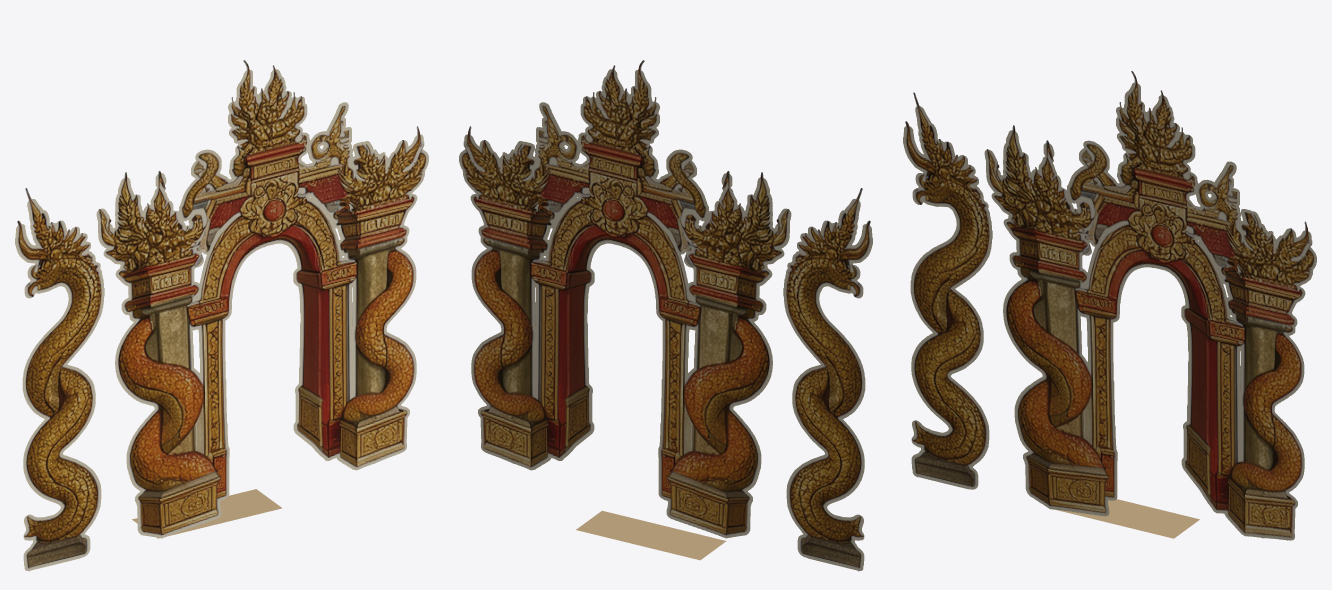
File: toad-standee-gilded-gate.glb
3 renders of one model, left to right at view 1: azimuth 30°, elevation 25°; view 2: azimuth 150°, elevation 25°; view 3: azimuth 330°, elevation 25°, orthographic.
Visible parts, largest first — view 1: gilded-gate; view 2: gilded-gate; view 3: gilded-gate.
Part boxes in pixels (left/top/right/bottom): gilded-gate: left=15, top=60, right=428, bottom=571; gilded-gate: left=459, top=60, right=872, bottom=571; gilded-gate: left=903, top=71, right=1316, bottom=540.
Size of the model in its own units: 0.3 by 0.3178 by 0.035.
1 material, 1 textured.
